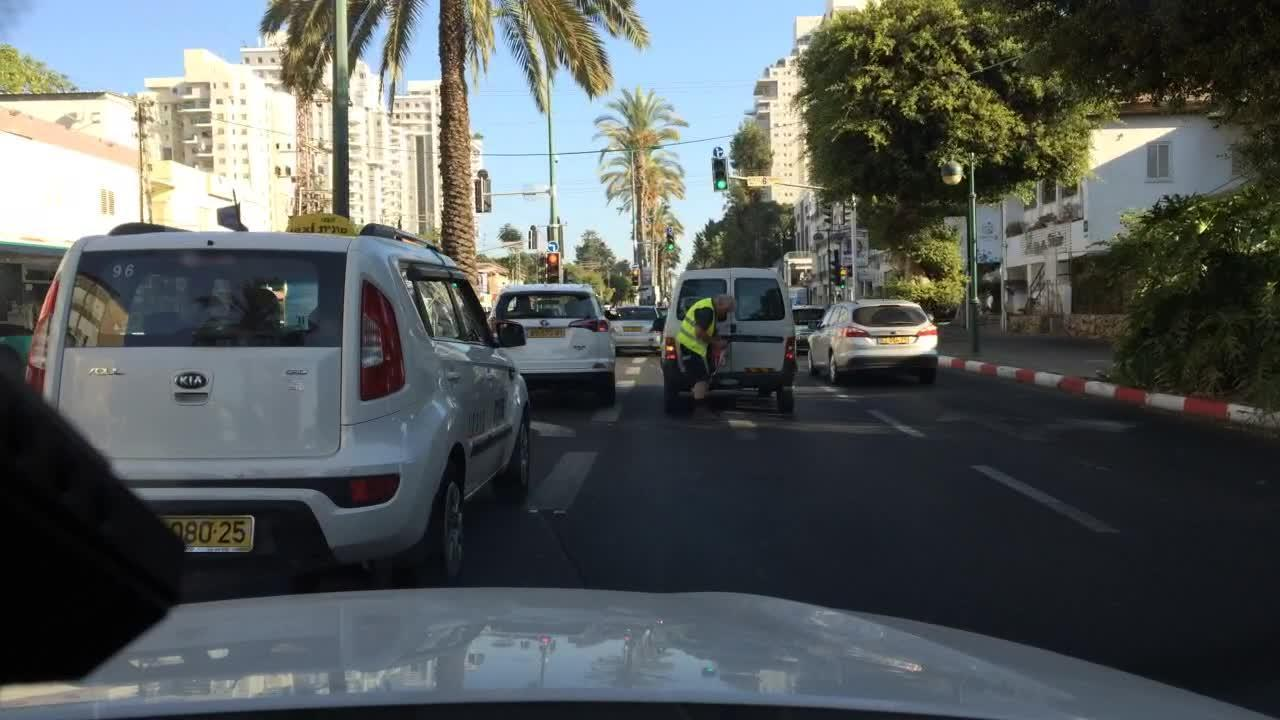kia: (169, 358, 224, 404)
